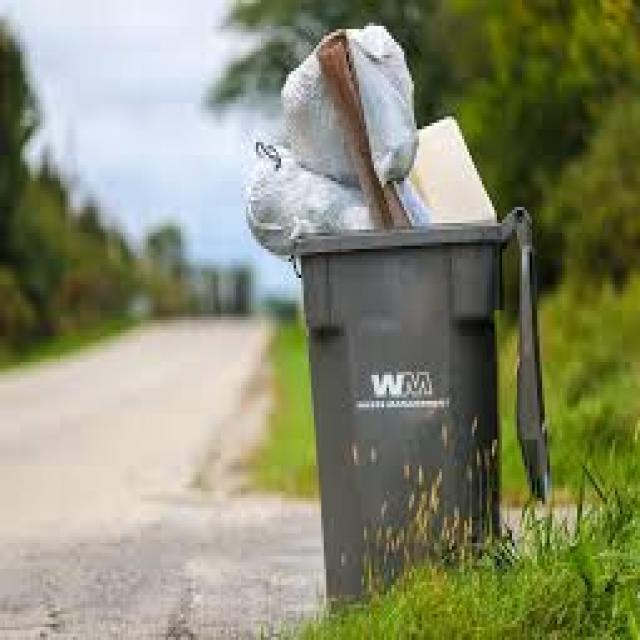garbage: (258, 36, 500, 232)
